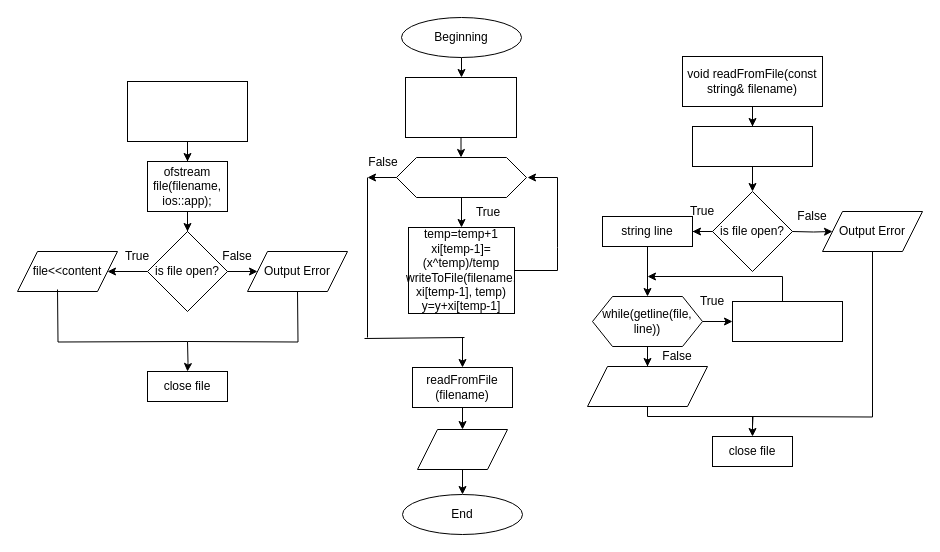
Some shapes in this 940 by 552 pixel diagram are drawn without their labels. Each missing label, with the centre of its shape:
content=content+ line+"\n": pixel 787 321
double y=0, xi[10] int x=3, temp=0 string filename= "file.txt": pixel 460 107
ifstream file(filename) string content: pixel 752 146
Output content: pixel 647 386
Output y: pixel 462 449
void writeToFile(const string& filename, const float& content, int temp): pixel 187 111
while(temp<10): pixel 461 177
